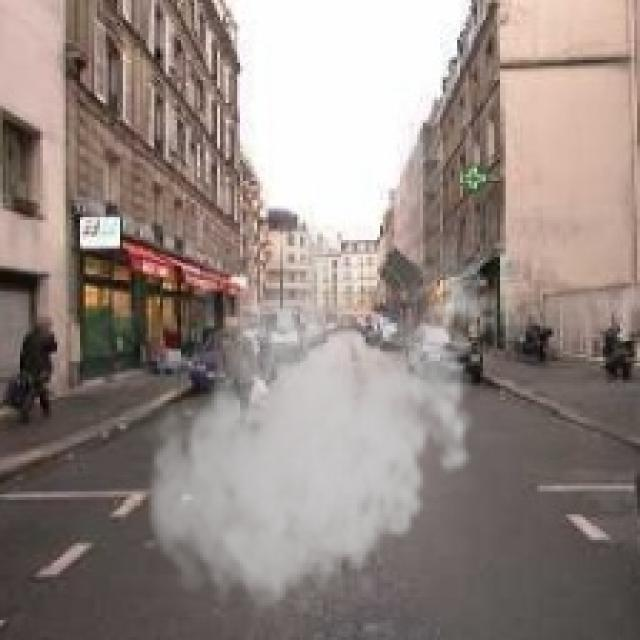Smoke: (140, 226, 494, 623)
